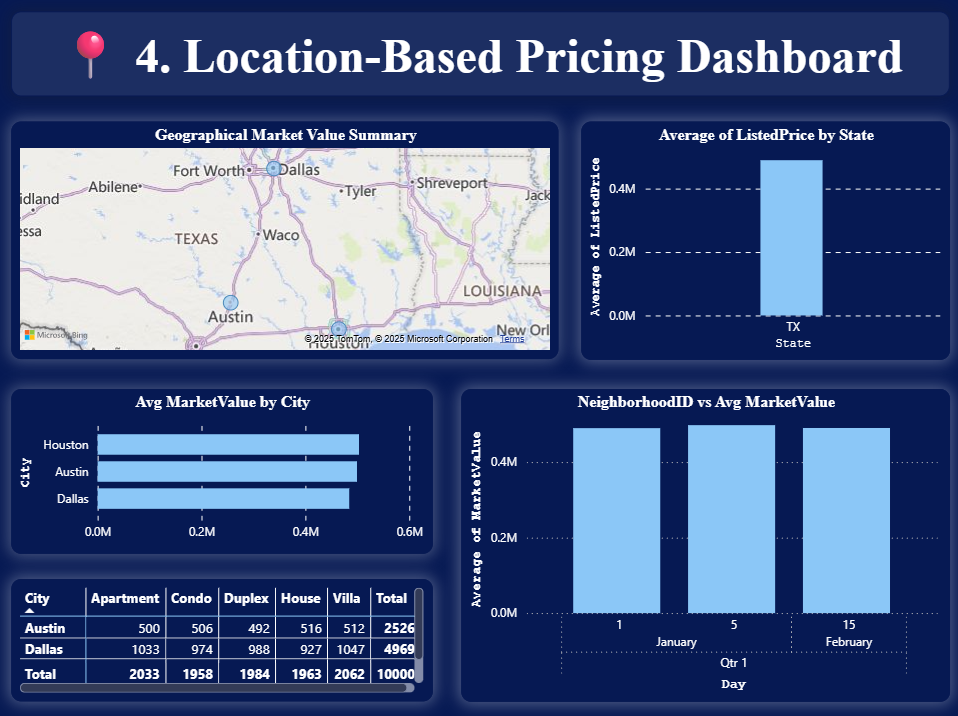

This screenshot's page, from the dashboard's own definition file:
{"tool":"powerbi","page":{"name":"Page 4","canvas":[960,720],"ordinal":3},"visuals":[{"type":"textbox","box":[11.2,12.5,938.8,85],"z":0},{"type":"map","title":"Geographical Market Value Summary","fields":{"Size":["Avg(Properties.MarketValue)"],"Category":["Properties.City"]},"box":[11.2,122.5,547.5,237.5],"z":1000},{"type":"barChart","title":"Avg MarketValue by City","fields":{"Y":["Avg(Properties.MarketValue)"],"Category":["Properties.City"]},"box":[11.2,390,421.2,165],"z":2000},{"type":"clusteredColumnChart","fields":{"Category":["Properties.State"],"Y":["Avg(Properties.ListedPrice)"]},"box":[581.2,122.5,368.8,238.8],"z":3000},{"type":"pivotTable","fields":{"Rows":["Properties.City"],"Columns":["Properties.PropertyType"],"Values":["CountNonNull(Properties.PropertyID)"]},"box":[11.2,580,421.2,122.5],"z":4000},{"type":"columnChart","title":"NeighborhoodID vs Avg MarketValue","fields":{"Y":["Avg(Properties.MarketValue)"],"Category":["Properties.ListingDate.Variation.Date Hierarchy.Quarter","Properties.ListingDate.Variation.Date Hierarchy.Month","Properties.ListingDate.Variation.Date Hierarchy.Day"]},"box":[461.2,390,488.8,312.5],"z":5000}]}

Visuals, with their boxes in screenshot pixels (x1, y1, x2, y2), scaled from the page's 960x720 canvas onto the 958x716 screenshot:
textbox: 11 12 948 97
"Geographical Market Value Summary" map: 11 122 558 358
"Avg MarketValue by City" barChart: 11 388 431 552
clusteredColumnChart - Properties.State x Avg(Properties.ListedPrice): 580 122 948 359
pivotTable - Properties.City x Properties.PropertyType: 11 577 431 699
"NeighborhoodID vs Avg MarketValue" columnChart: 460 388 948 699
